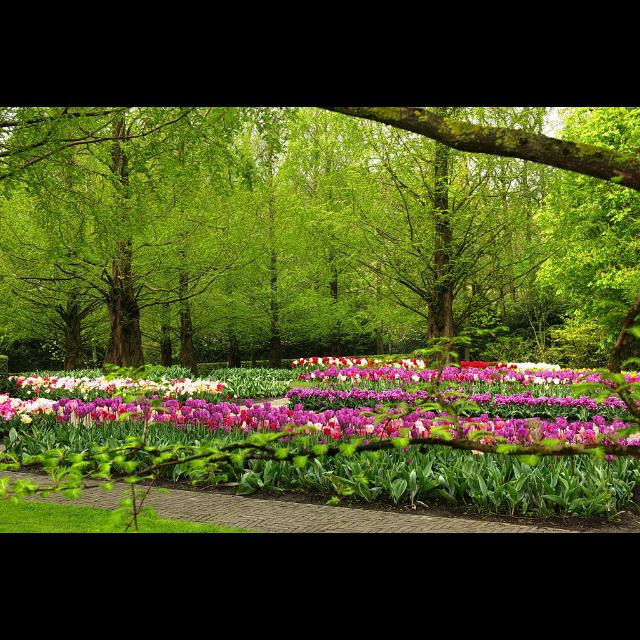Flower: (1, 393, 639, 461), (284, 386, 636, 414), (290, 356, 640, 382), (8, 374, 230, 394)
